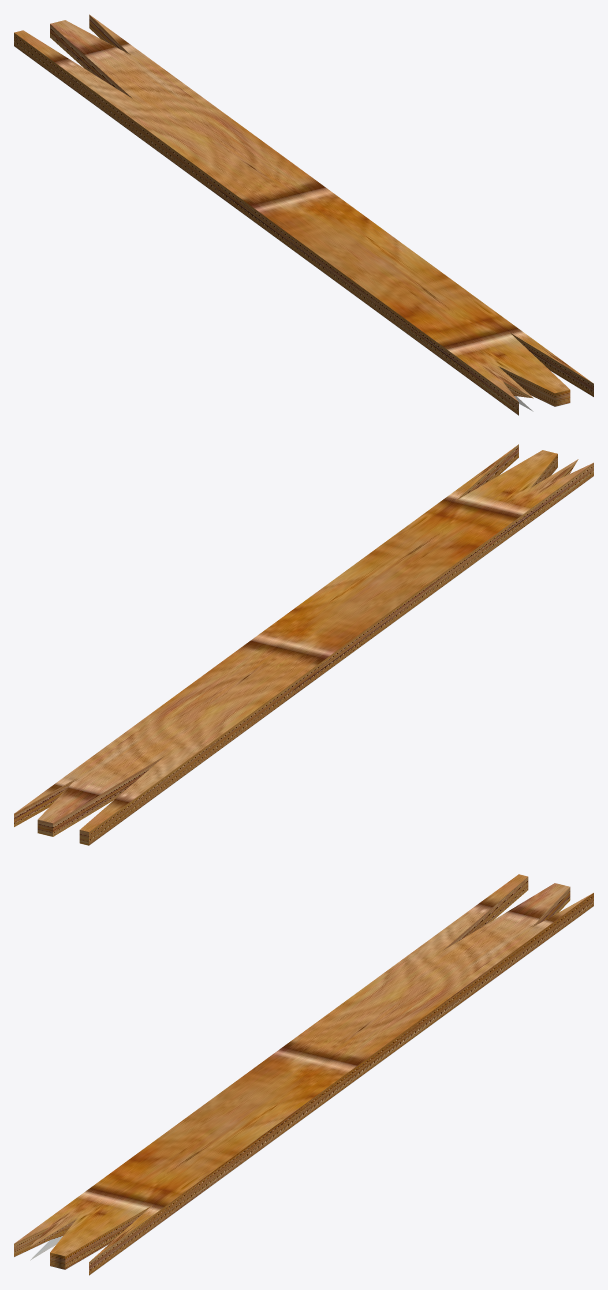
The model's file is smooth rectangular plank.fbx.
The picture shows the model from 3 angles, top to bottom: view 1: azimuth 30°, elevation 25°; view 2: azimuth 150°, elevation 25°; view 3: azimuth 330°, elevation 25°; orthographic projection.
Parts seen in each view (by area): view 1: pCube34; view 2: pCube34; view 3: pCube34.
Boxes of the visible parts, box(x1,y1,x2,y2) form: pCube34: box(14, 14, 593, 415); pCube34: box(14, 444, 593, 845); pCube34: box(14, 874, 593, 1275).
Size of the model in its own units: 0.9984 by 0.1733 by 11.62.
1 material, 1 textured.
